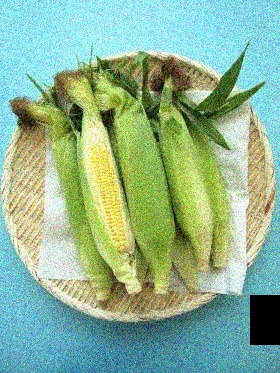corn: (84, 128, 128, 259)
corn_plant: (31, 104, 112, 295), (103, 75, 170, 274), (156, 89, 212, 262)
